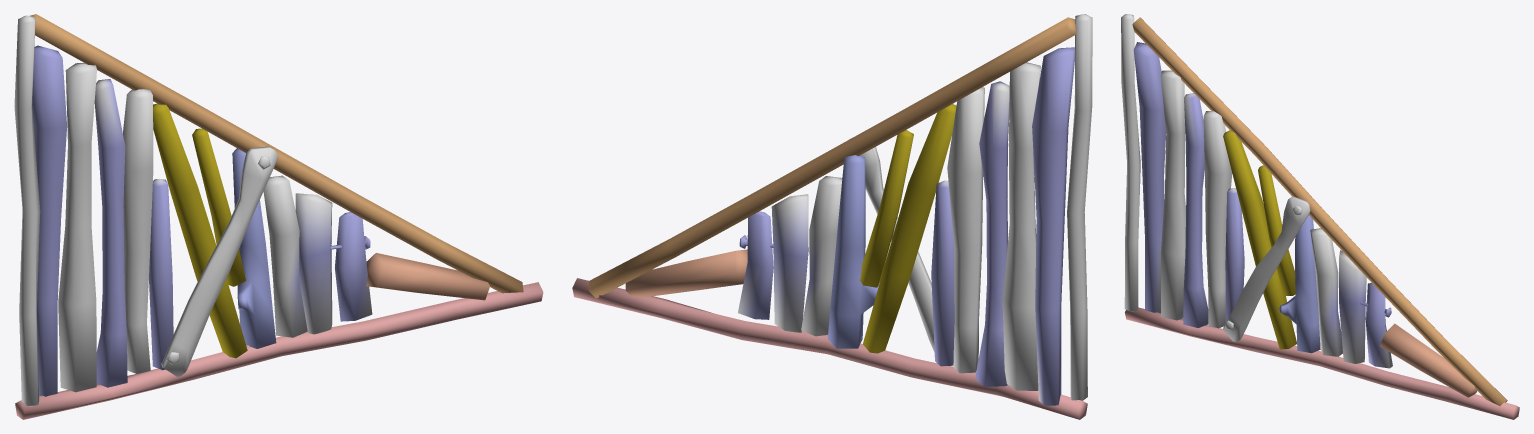
Rendered from PBW_W1_RoofWall.glb.
3 views of the same model, side by side, from view 1: azimuth 30°, elevation 25°; view 2: azimuth 150°, elevation 25°; view 3: azimuth 330°, elevation 25° (orthographic). The views are drawn at different scales.
Parts seen in each view (by area): view 1: PBW_W1_RoofWall; view 2: PBW_W1_RoofWall; view 3: PBW_W1_RoofWall.
Boxes of the visible parts, left/top/right/bottom form: PBW_W1_RoofWall: left=14, top=14, right=543, bottom=419; PBW_W1_RoofWall: left=572, top=14, right=1092, bottom=419; PBW_W1_RoofWall: left=1121, top=14, right=1519, bottom=419.
Bounding box in the file's own units: 5.17 × 3.89 × 0.429.
